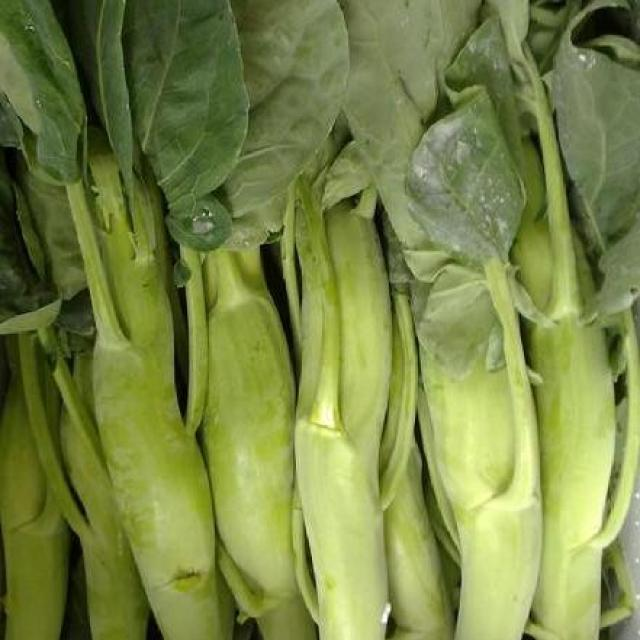collard: (22, 16, 572, 620)
